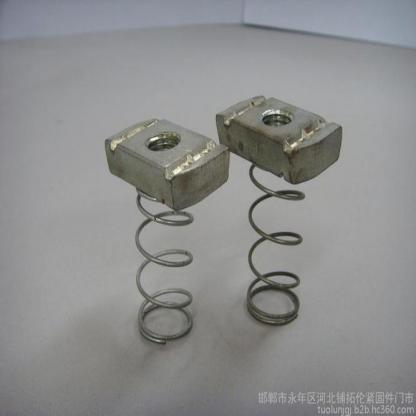FOD: (242, 160, 307, 328), (133, 185, 196, 347)
